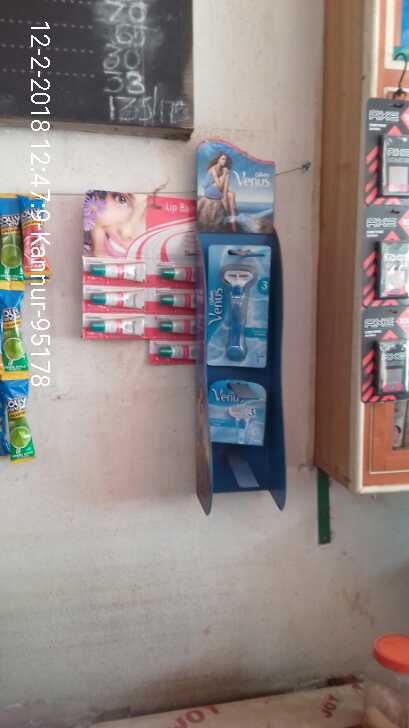venus: (199, 241, 271, 372), (202, 377, 273, 454)
